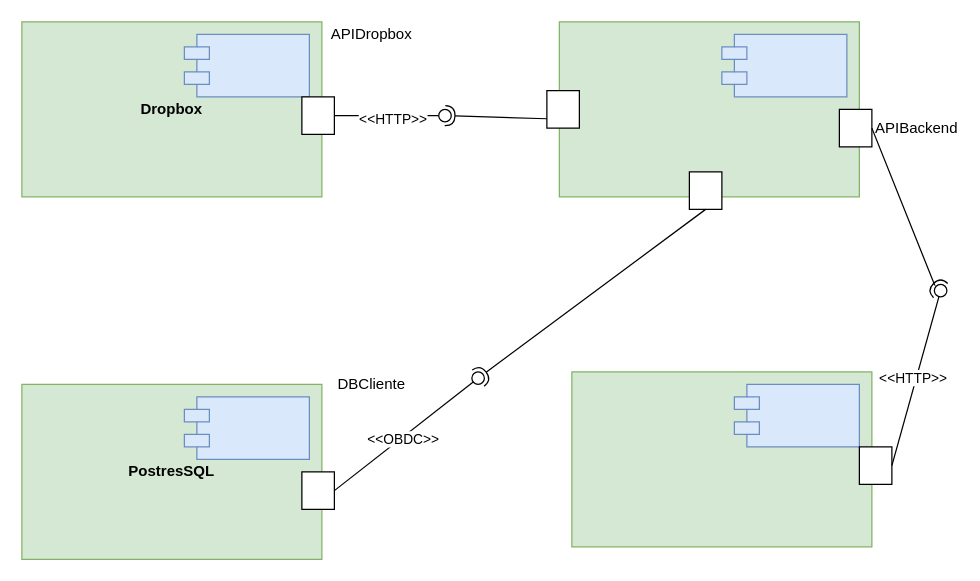
Some shapes in this 980 by 581 pixel diagram are drawn without their labels. Here are the shapes that lost their labels. From the top down, the box of each, then its label:
(558, 21, 859, 197): PlayerBackend
(571, 371, 872, 547): PlayerMovil
